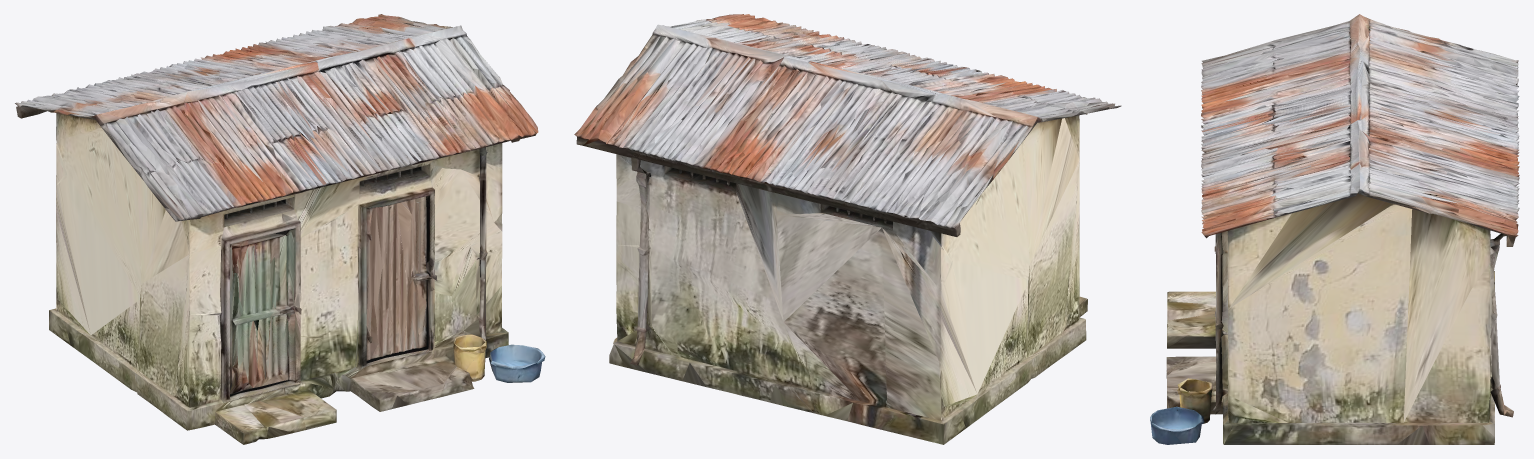
The model's file is bathroom_toilet.glb.
3 renders of one model, left to right at view 1: azimuth 30°, elevation 25°; view 2: azimuth 150°, elevation 25°; view 3: azimuth 270°, elevation 25°, orthographic. The views are drawn at different scales.
Parts seen in each view (by area): view 1: model; view 2: model; view 3: model.
Boxes of the visible parts, box(x1,y1,x2,y2) form: model: box(15, 14, 545, 444); model: box(574, 14, 1121, 444); model: box(1150, 14, 1519, 444).
Bounding box in the file's own units: 1.9 × 1.34 × 1.69.
1 material, 1 textured.
